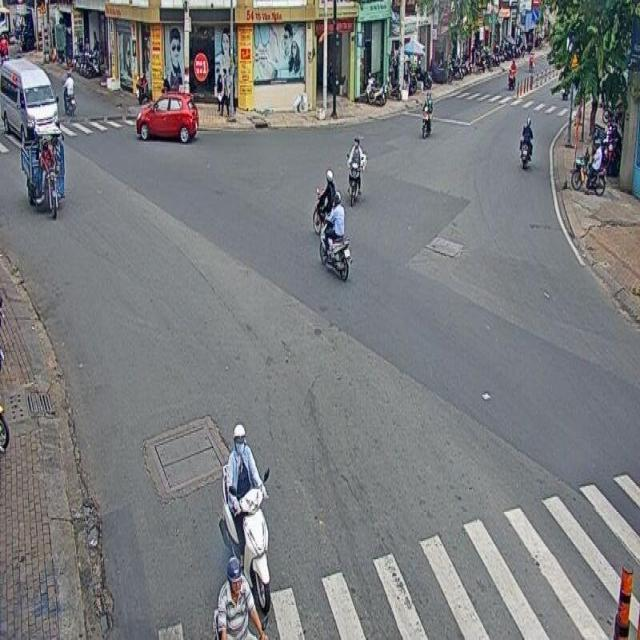car: (135, 90, 199, 143)
motorcycle: (221, 420, 272, 612), (320, 189, 350, 282), (312, 169, 334, 235), (346, 136, 364, 207), (422, 92, 434, 138)
